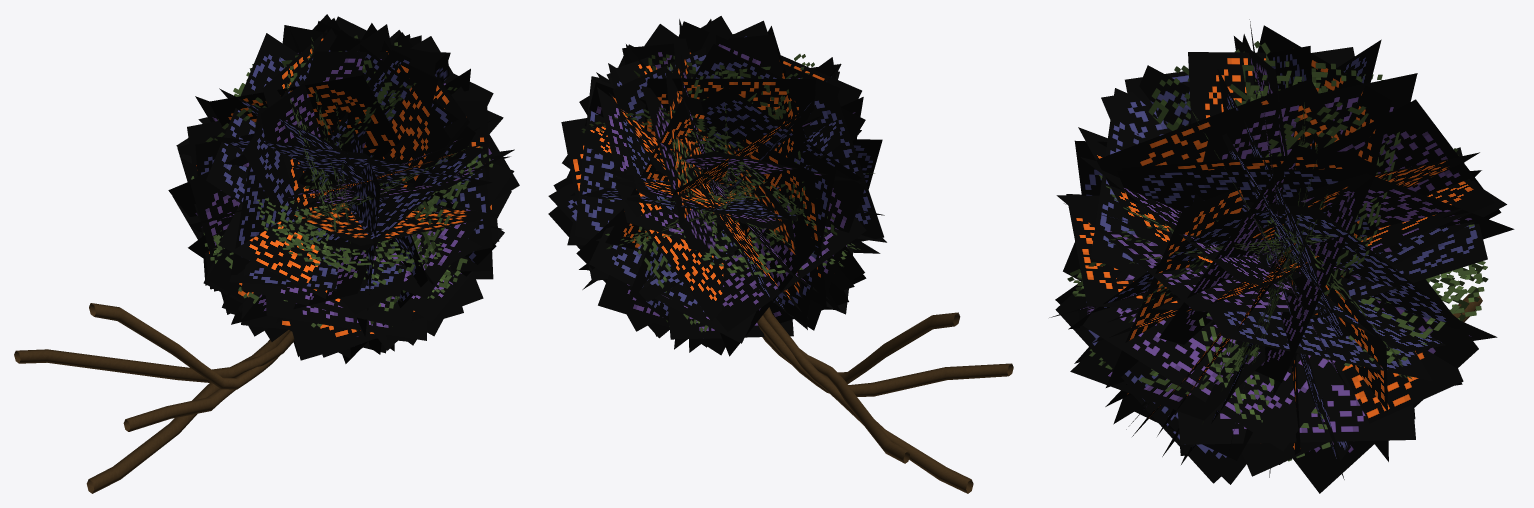
Rendered from Tree6.fbx.
The picture shows the model from 3 angles, left to right: view 1: azimuth 30°, elevation 25°; view 2: azimuth 150°, elevation 25°; view 3: azimuth 270°, elevation 25°; orthographic projection. The views are drawn at different scales.
Visible parts, largest first — view 1: Tree6; view 2: Tree6; view 3: Tree6.
Part boxes in pixels (bbox=[...]): Tree6: bbox=[14, 14, 519, 493]; Tree6: bbox=[548, 16, 1013, 493]; Tree6: bbox=[1049, 19, 1514, 493].
Bounding box in the file's own units: 591 × 554 × 438.
